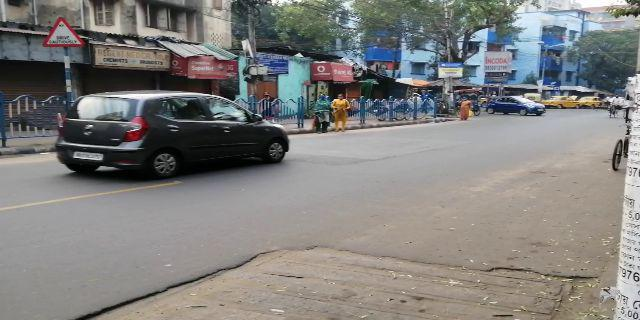Car: (60, 91, 292, 184), (489, 88, 547, 118)
